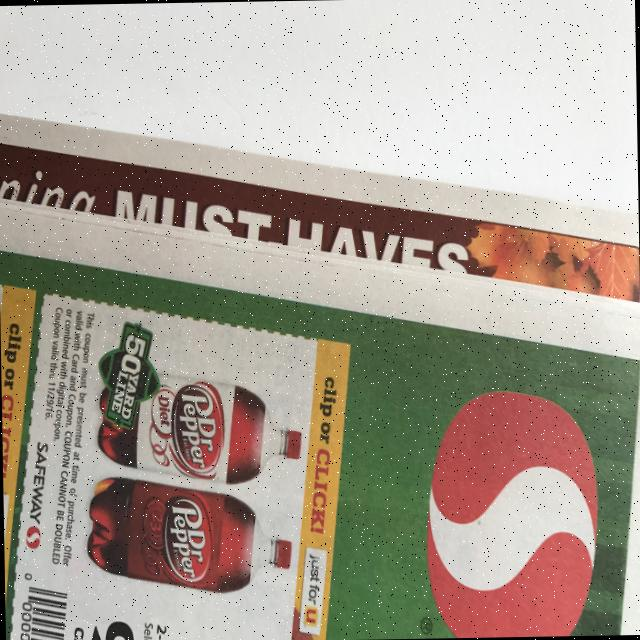paper: (0, 100, 640, 640)
